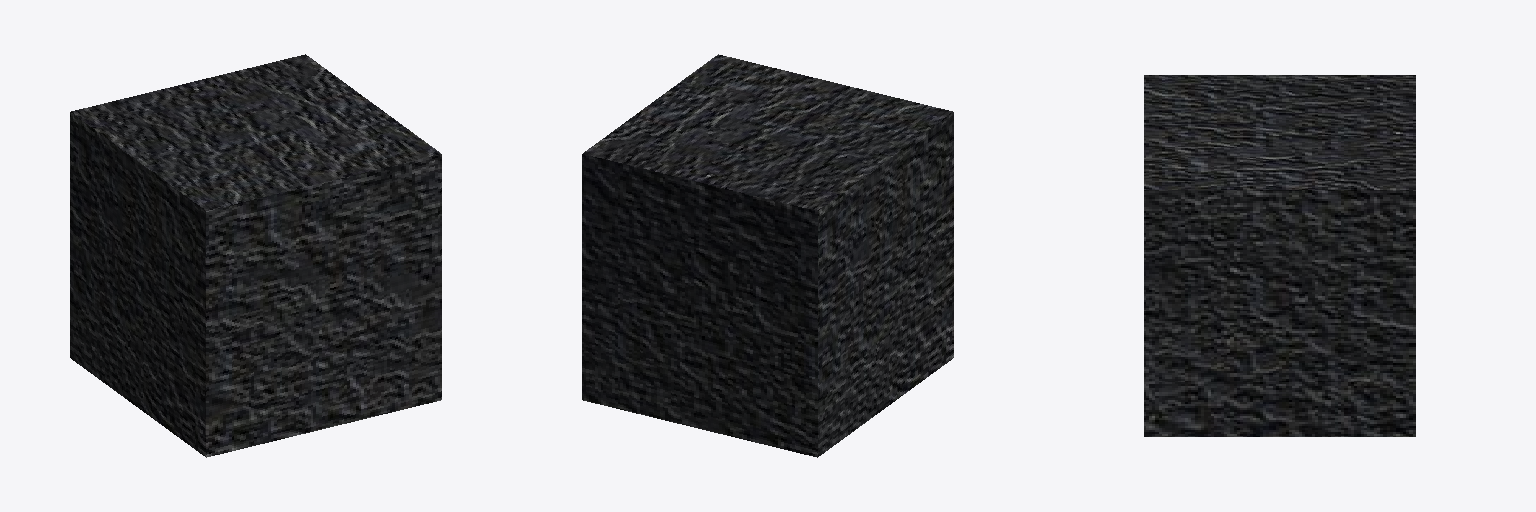
3 renders of one model, left to right at view 1: azimuth 30°, elevation 25°; view 2: azimuth 150°, elevation 25°; view 3: azimuth 270°, elevation 25°, orthographic.
Visible parts, largest first — view 1: Cube; view 2: Cube; view 3: Cube.
Boxes of the visible parts, <box> form: Cube: <box>70,54,441,457</box>; Cube: <box>582,54,953,457</box>; Cube: <box>1144,75,1415,436</box>.
Bounding box in the file's own units: 2 × 2 × 2.
Materials: 1 (1 with a texture image).